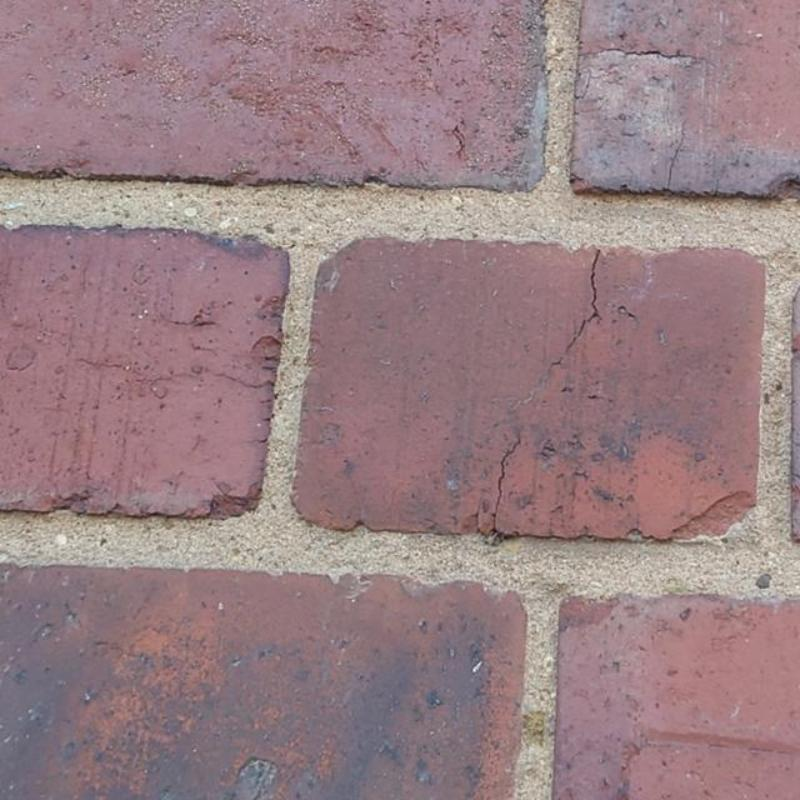pothole: (566, 249, 603, 350), (493, 439, 523, 531), (579, 49, 706, 61), (666, 119, 686, 192)
